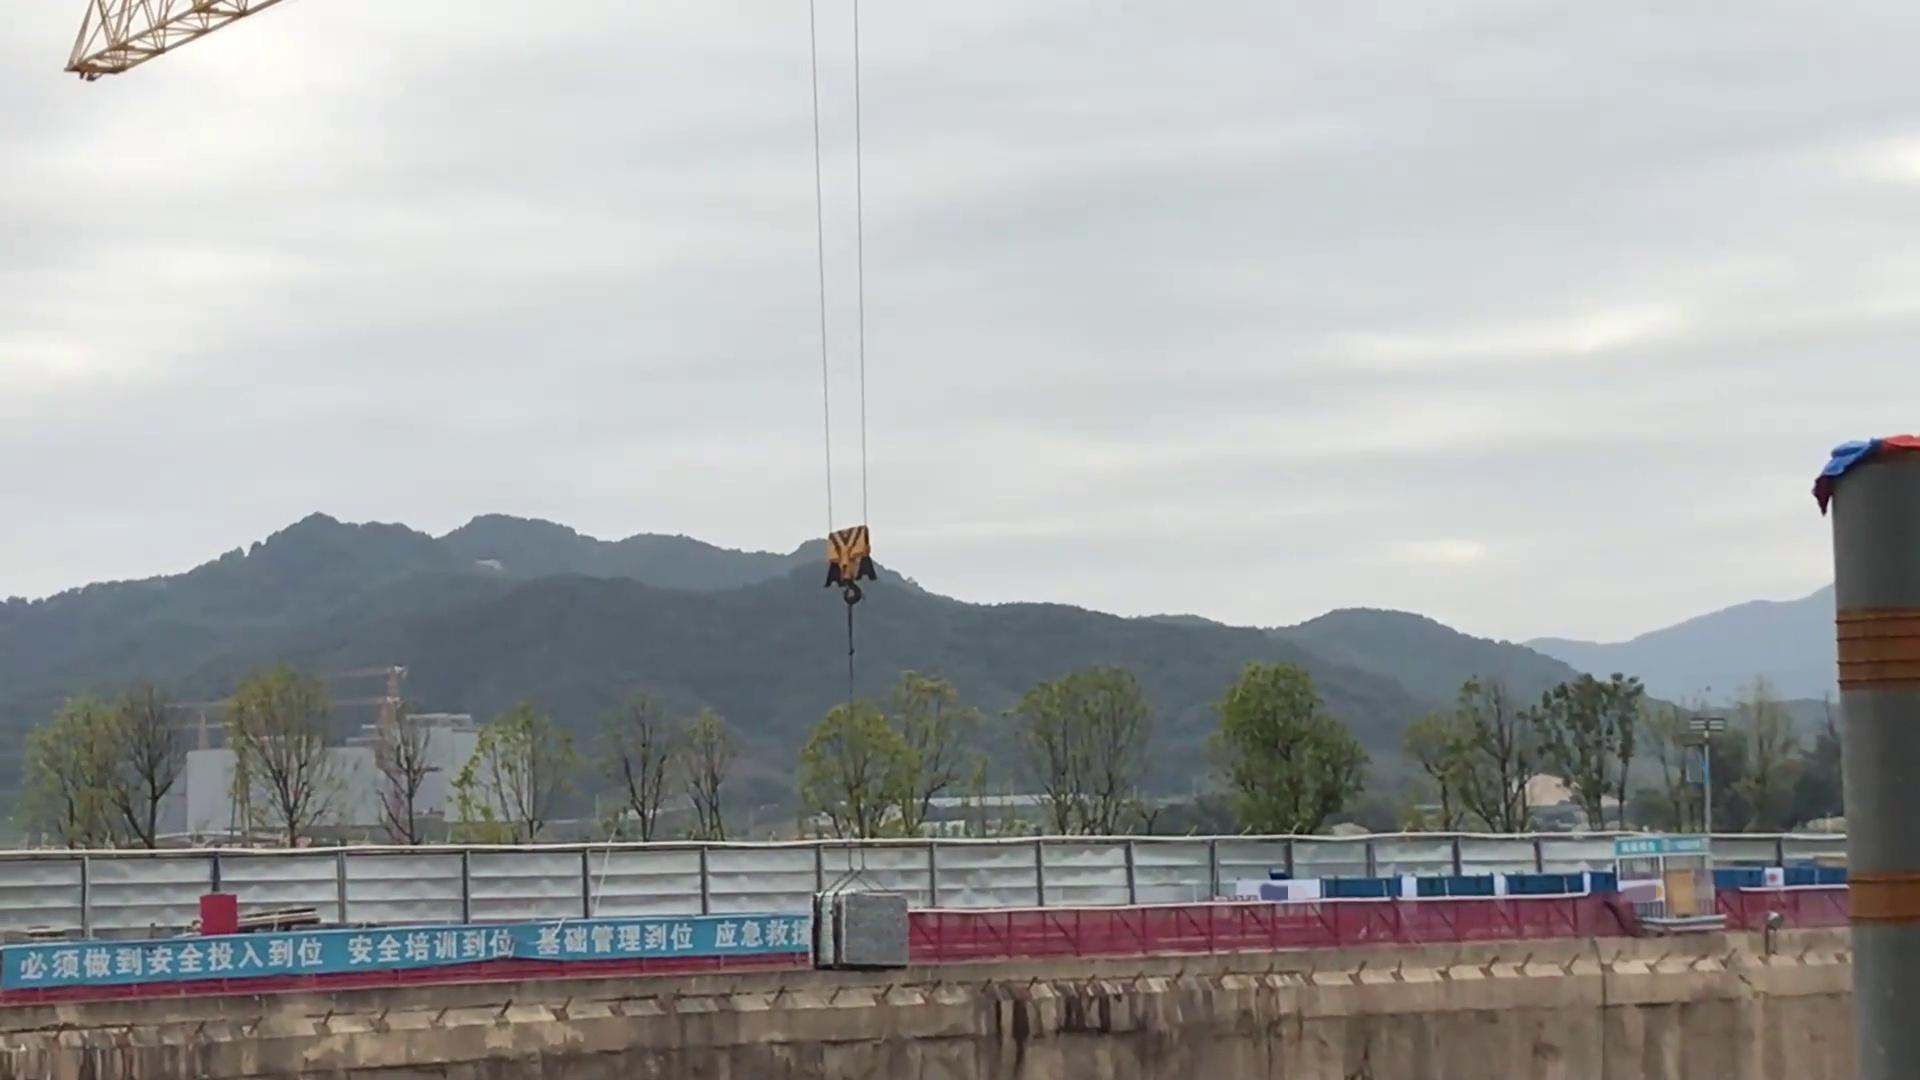fence: (1, 880, 1857, 1000)
hook: (816, 524, 880, 604)
scaffold: (814, 886, 920, 976)
slogan: (3, 907, 824, 978)
